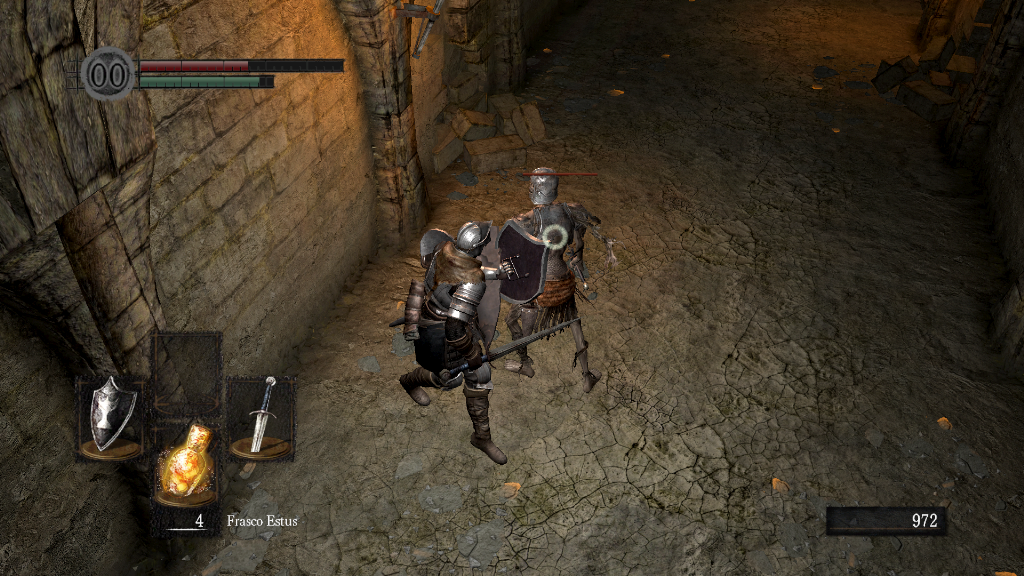health: (138, 58, 343, 71)
humanity: (80, 45, 136, 102)
player: (387, 219, 552, 468)
souls: (825, 506, 945, 536)
stamina: (138, 74, 274, 88)
undeadSoldier: (498, 166, 608, 397)
